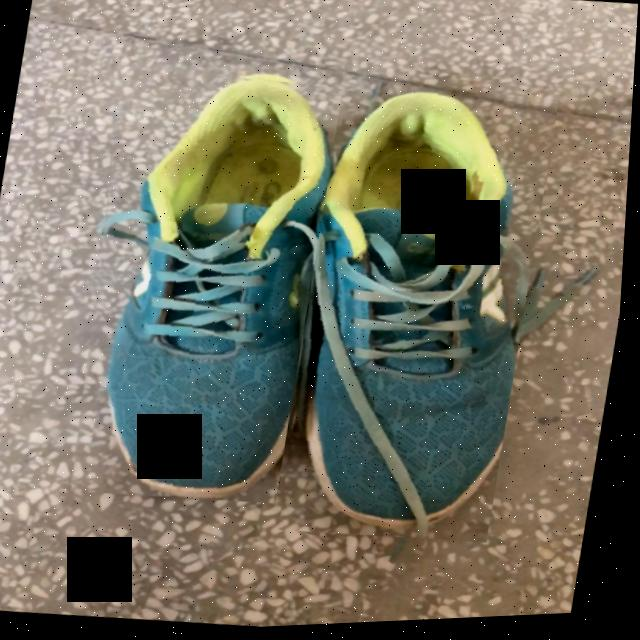shoe: (105, 82, 334, 502), (318, 96, 521, 540)
